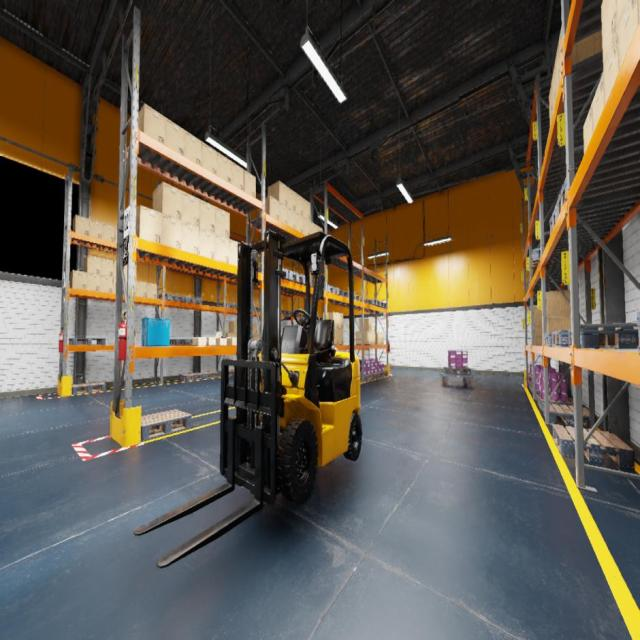box: (618, 0, 640, 70), (601, 0, 618, 70), (603, 32, 619, 105), (138, 104, 166, 145), (153, 182, 183, 220), (571, 30, 603, 65), (136, 205, 162, 244), (592, 72, 605, 132), (161, 214, 182, 250), (166, 117, 184, 156), (546, 290, 571, 318), (184, 131, 202, 166), (182, 192, 199, 228), (182, 221, 199, 254), (268, 180, 288, 207), (583, 103, 593, 154), (200, 199, 215, 233), (259, 195, 279, 220), (199, 228, 215, 259), (547, 317, 580, 332), (202, 142, 217, 175), (215, 207, 230, 239), (215, 233, 230, 263), (217, 152, 231, 183), (616, 0, 629, 31), (231, 161, 244, 190), (72, 214, 89, 236), (70, 270, 87, 290), (84, 255, 101, 274), (244, 170, 255, 198), (89, 219, 103, 239), (555, 42, 560, 97), (230, 239, 240, 266), (102, 222, 115, 242), (323, 312, 338, 328), (87, 273, 100, 291), (100, 258, 113, 276), (100, 275, 112, 293), (113, 277, 125, 294), (113, 261, 125, 278), (552, 64, 556, 112), (288, 187, 296, 211), (125, 279, 136, 296), (125, 264, 136, 281), (295, 193, 303, 216), (359, 318, 372, 332), (549, 82, 553, 126), (288, 207, 296, 229), (279, 202, 287, 224), (146, 282, 156, 299), (214, 332, 227, 345), (295, 212, 303, 233), (559, 25, 562, 79), (136, 281, 146, 297), (534, 307, 542, 326), (534, 326, 542, 344), (356, 332, 368, 344), (304, 198, 310, 221), (375, 332, 384, 345), (304, 217, 310, 236), (193, 338, 206, 346), (204, 337, 216, 345), (338, 313, 344, 329), (338, 329, 344, 344), (556, 80, 560, 100), (229, 322, 237, 332), (310, 221, 316, 234), (227, 337, 236, 345), (334, 328, 338, 345), (222, 333, 234, 338), (368, 332, 372, 344), (550, 114, 553, 129), (638, 0, 640, 22), (254, 324, 258, 334), (372, 332, 375, 344), (316, 226, 322, 232), (553, 99, 555, 116), (133, 329, 135, 344), (115, 227, 117, 242), (254, 334, 258, 341), (546, 140, 548, 153), (548, 128, 550, 141), (560, 69, 562, 81), (542, 322, 543, 344), (257, 334, 260, 339), (234, 333, 237, 337)
forklift: (235, 230, 361, 505)
pallets: (552, 424, 635, 471), (141, 410, 192, 441), (568, 326, 638, 348), (542, 403, 596, 429), (557, 173, 576, 218), (538, 395, 573, 410), (72, 381, 106, 394), (256, 266, 288, 279), (285, 270, 305, 285), (552, 330, 568, 347), (549, 203, 557, 236), (68, 338, 105, 345), (532, 247, 544, 268), (444, 366, 471, 374), (180, 373, 205, 381), (160, 294, 184, 302), (636, 311, 640, 354), (200, 371, 221, 379), (324, 285, 339, 295), (360, 299, 380, 306), (184, 296, 201, 304), (344, 294, 360, 301), (360, 373, 374, 381), (544, 333, 552, 346), (220, 369, 233, 377), (170, 339, 187, 345), (219, 303, 237, 308), (375, 301, 387, 308), (339, 290, 349, 298), (378, 370, 388, 378), (532, 386, 538, 399), (371, 372, 381, 378), (286, 311, 298, 316), (526, 280, 530, 291), (253, 307, 260, 312), (282, 310, 290, 314), (188, 339, 193, 345), (532, 268, 536, 275), (524, 286, 526, 296), (530, 384, 532, 394), (529, 381, 531, 390)
